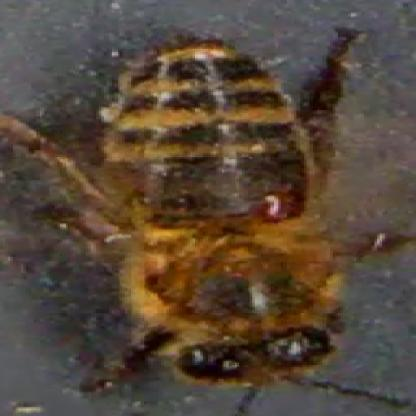bee: (77, 34, 368, 396)
vaoora: (256, 192, 296, 220)
